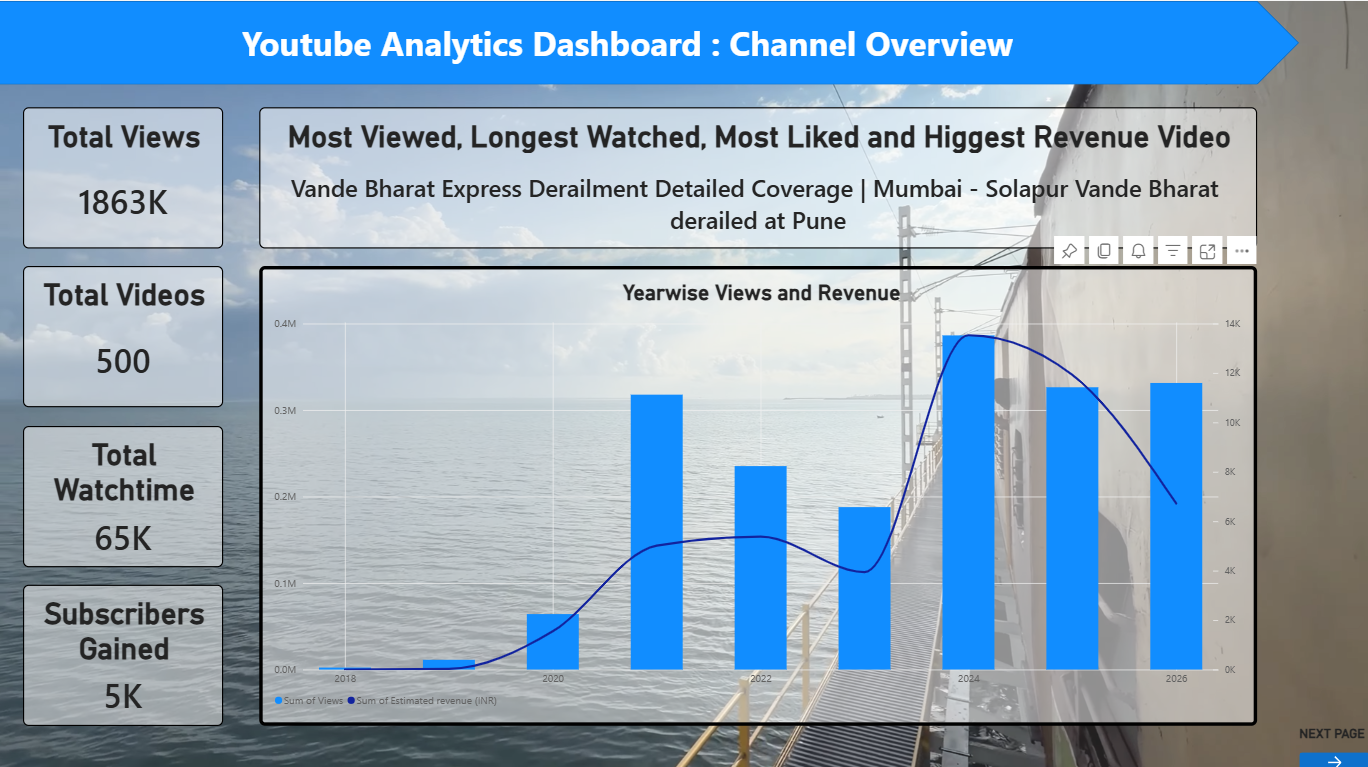

The dashboard page shown, as its layout file describes it:
{"tool":"powerbi","page":{"name":"Page 1","canvas":[1920,1080],"ordinal":0},"visuals":[{"type":"card","title":"Total Views ","fields":{"Values":["Sum(Youtube Video Dataset.Views)"]},"box":[34.7,149.5,280.3,197.6],"z":0},{"type":"card","title":"Total Videos","fields":{"Values":["CountNonNull(Youtube Video Dataset.Views)"]},"box":[34.7,371.1,280.3,197.6],"z":1},{"type":"card","title":"Total Watchtime","fields":{"Values":["Sum(Youtube Video Dataset.Watch time (hours))"]},"box":[34.7,595.3,280.3,197.6],"z":2},{"type":"card","title":"Subscribers Gained","fields":{"Values":["Sum(Youtube Video Dataset.Subscribers gained)"]},"box":[34.7,816.9,280.3,197.6],"z":3},{"type":"actionButton","title":"NEXT PAGE","box":[1820.7,1014.5,98.8,66.7],"z":4},{"type":"card","title":"Most Viewed, Longest Watched, Most Liked and Higgest Revenue Video","fields":{"Values":["Youtube Video Dataset.Most Watch Time Title"]},"box":[365.7,149.5,1396.2,197.6],"z":5},{"type":"lineStackedColumnComboChart","title":"Yearwise Views and Revenue","fields":{"Category":["Youtube Video Dataset.Published Date.Variation.Date Hierarchy.Year"],"Y":["Sum(Youtube Video Dataset.Views)"],"Y2":["Sum(Youtube Video Dataset.Estimated revenue (INR))"]},"box":[365.7,371.1,1396.2,643.4],"z":6},{"type":"shape","title":"Youtube Analytics","box":[0,0,1820,116.9],"z":7}]}

Visuals, with their boxes in screenshot pixels (x1, y1, x2, y2), scaled from the page's 1920x1080 canvas onto the 1368x767 screenshot:
"Total Views " card: rect(25, 106, 224, 247)
"Total Videos" card: rect(25, 264, 224, 404)
"Total Watchtime" card: rect(25, 423, 224, 563)
"Subscribers Gained" card: rect(25, 580, 224, 720)
"NEXT PAGE" actionButton: rect(1297, 720, 1367, 766)
"Most Viewed, Longest Watched, Most Liked and Higgest Revenue Video" card: rect(261, 106, 1255, 247)
"Yearwise Views and Revenue" lineStackedColumnComboChart: rect(261, 264, 1255, 720)
"Youtube Analytics" shape: rect(0, 0, 1297, 83)
